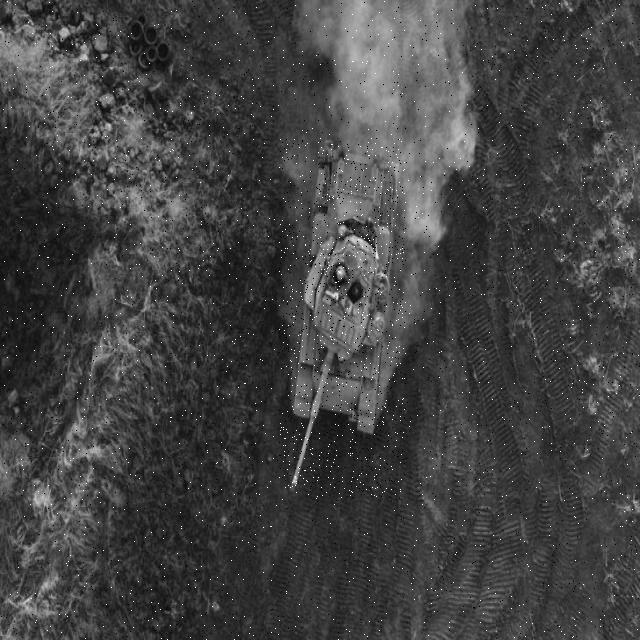MIL_MBT: (279, 137, 406, 502)
